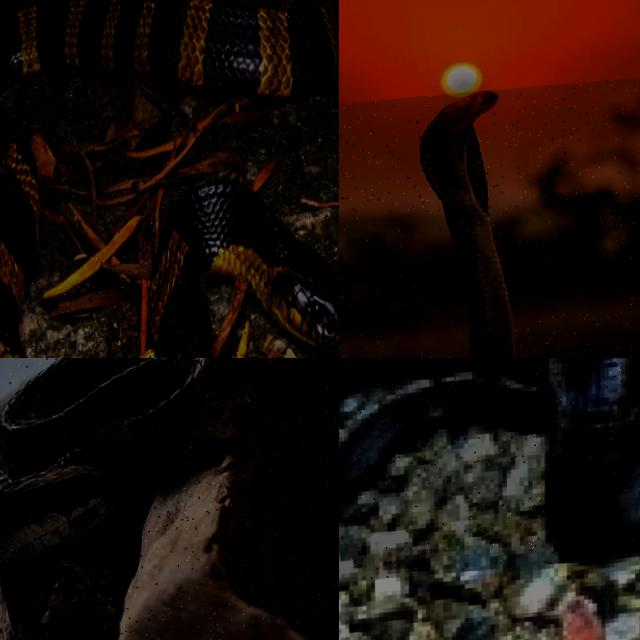Bungarus fasciatus: (0, 0, 338, 98)
Calloselasma rhodostoma: (0, 358, 338, 639)
Naja kaouthia: (339, 358, 639, 561)
Ophiophagus hannah: (420, 91, 514, 357)
